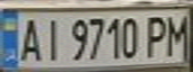0: (118, 15, 142, 58)
1: (103, 15, 124, 61)
7: (84, 15, 106, 61)
9: (63, 15, 90, 62)
A: (15, 15, 45, 63)
I: (39, 15, 66, 62)
M: (160, 11, 193, 57)
P: (142, 12, 172, 59)
